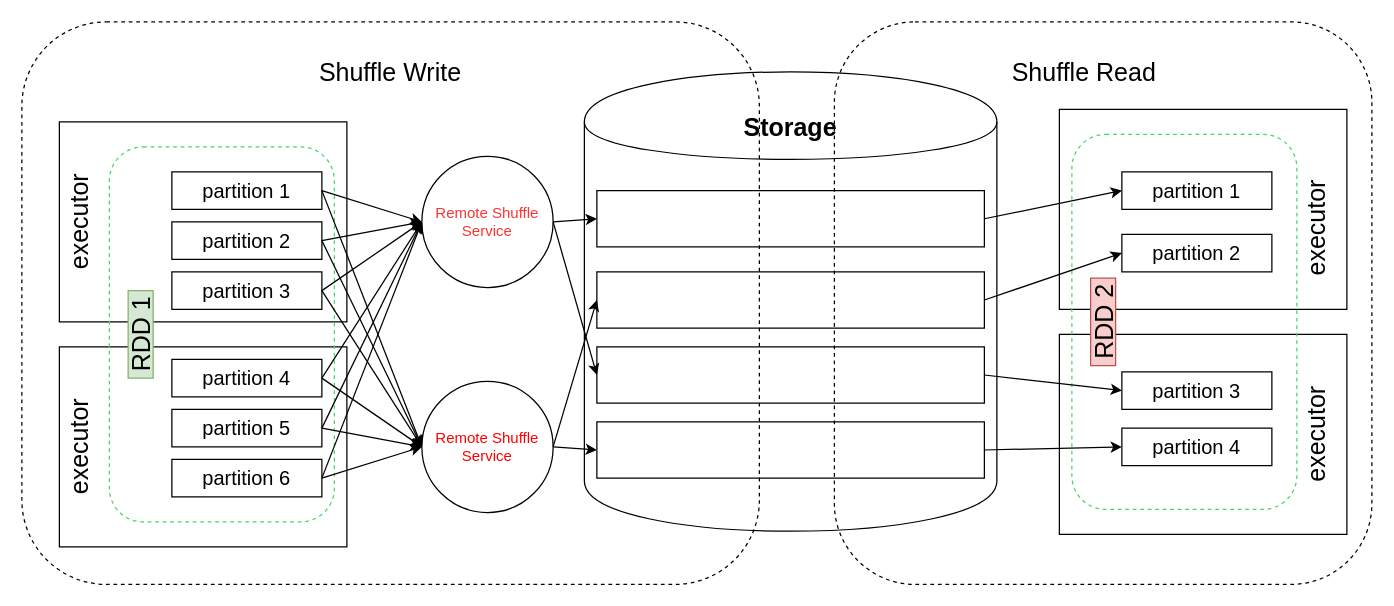
The diagram is 1394 pixels wide and 606 high, and some of its shapes have lost their labels. The box of each missing label's shape, as (x1, y1, x2, y2) in pixels:
partition1.data: (596, 189, 984, 247)
partition2.data: (596, 271, 984, 328)
partition3.data: (596, 346, 984, 403)
partition4.data: (596, 421, 984, 478)
